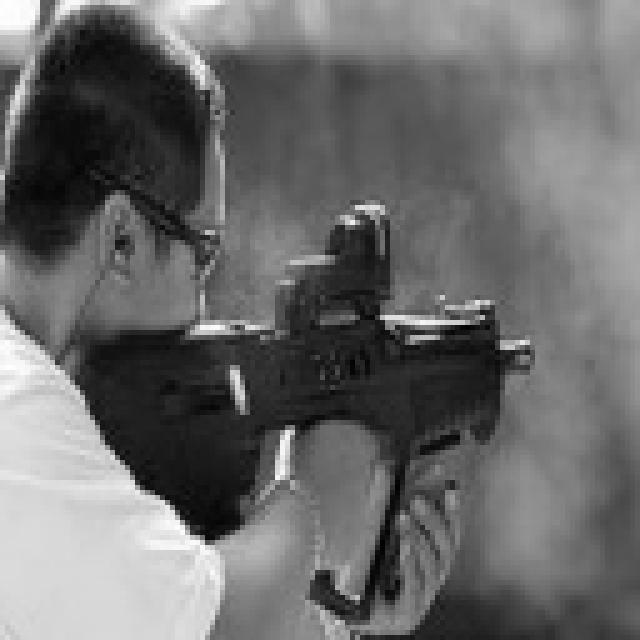Rifle: (75, 199, 548, 614), (316, 150, 322, 188)
